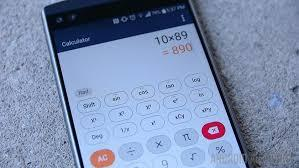Calculator: (68, 28, 250, 168)
